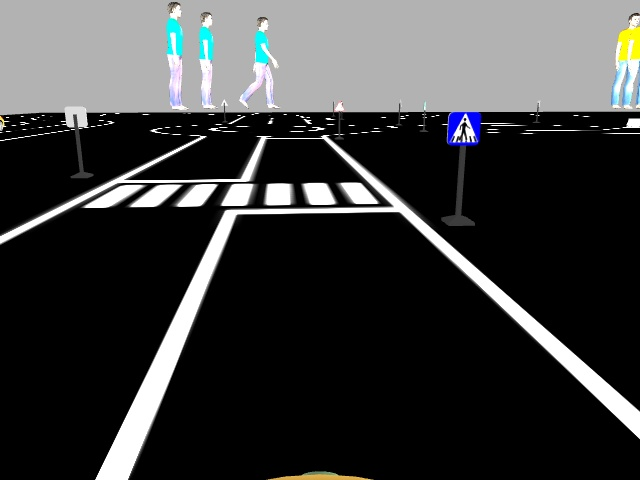Crosswalk: (445, 111, 482, 145)
